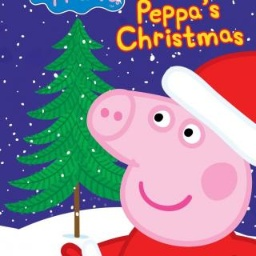Peppa: (61, 50, 255, 256)
